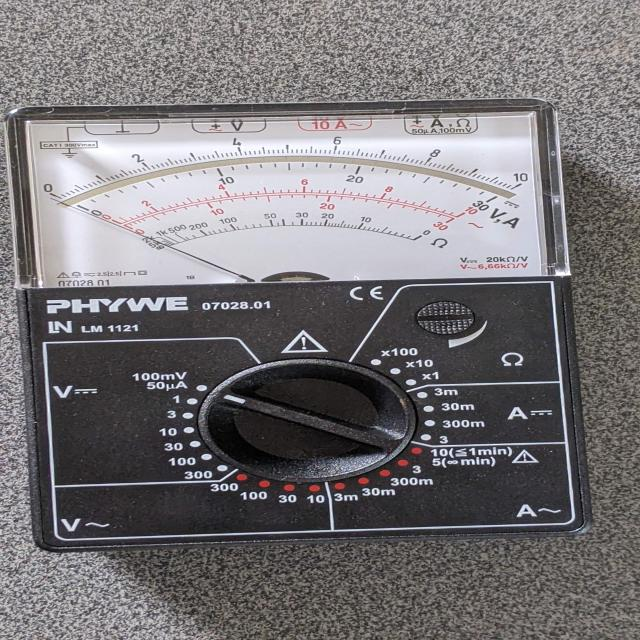Analog Multimeter: (5, 86, 605, 567)
